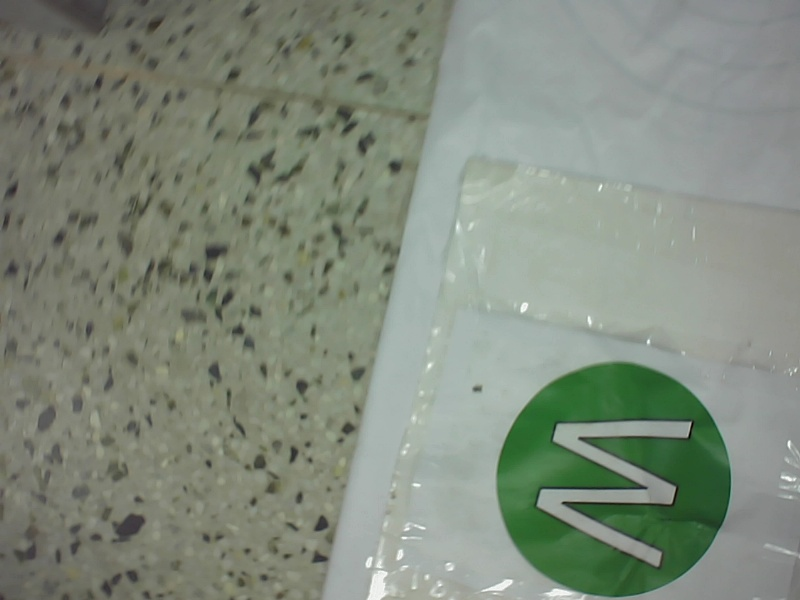areaB: (484, 353, 739, 598)
